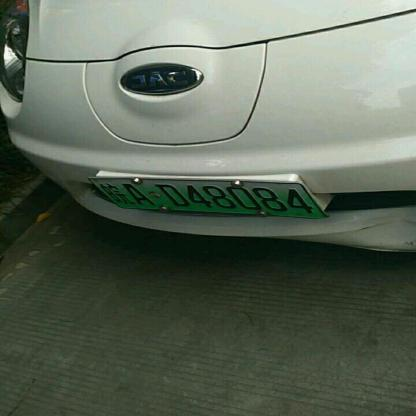lp: (88, 179, 326, 217)
